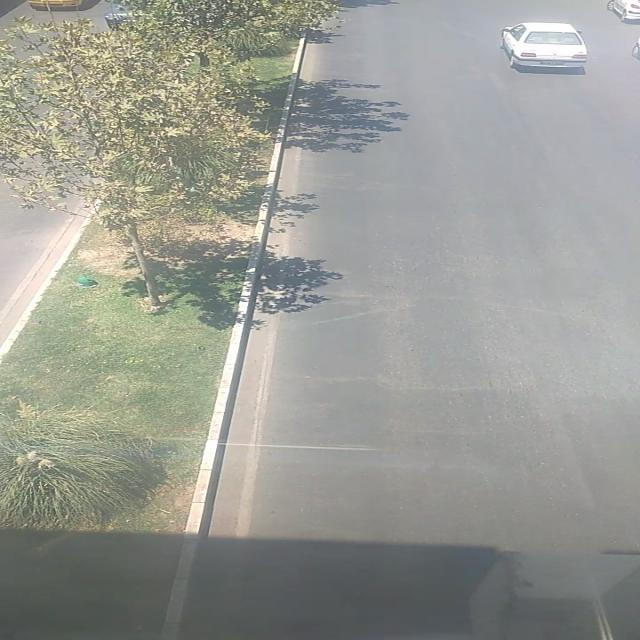car: (499, 21, 591, 73), (606, 1, 640, 23)
